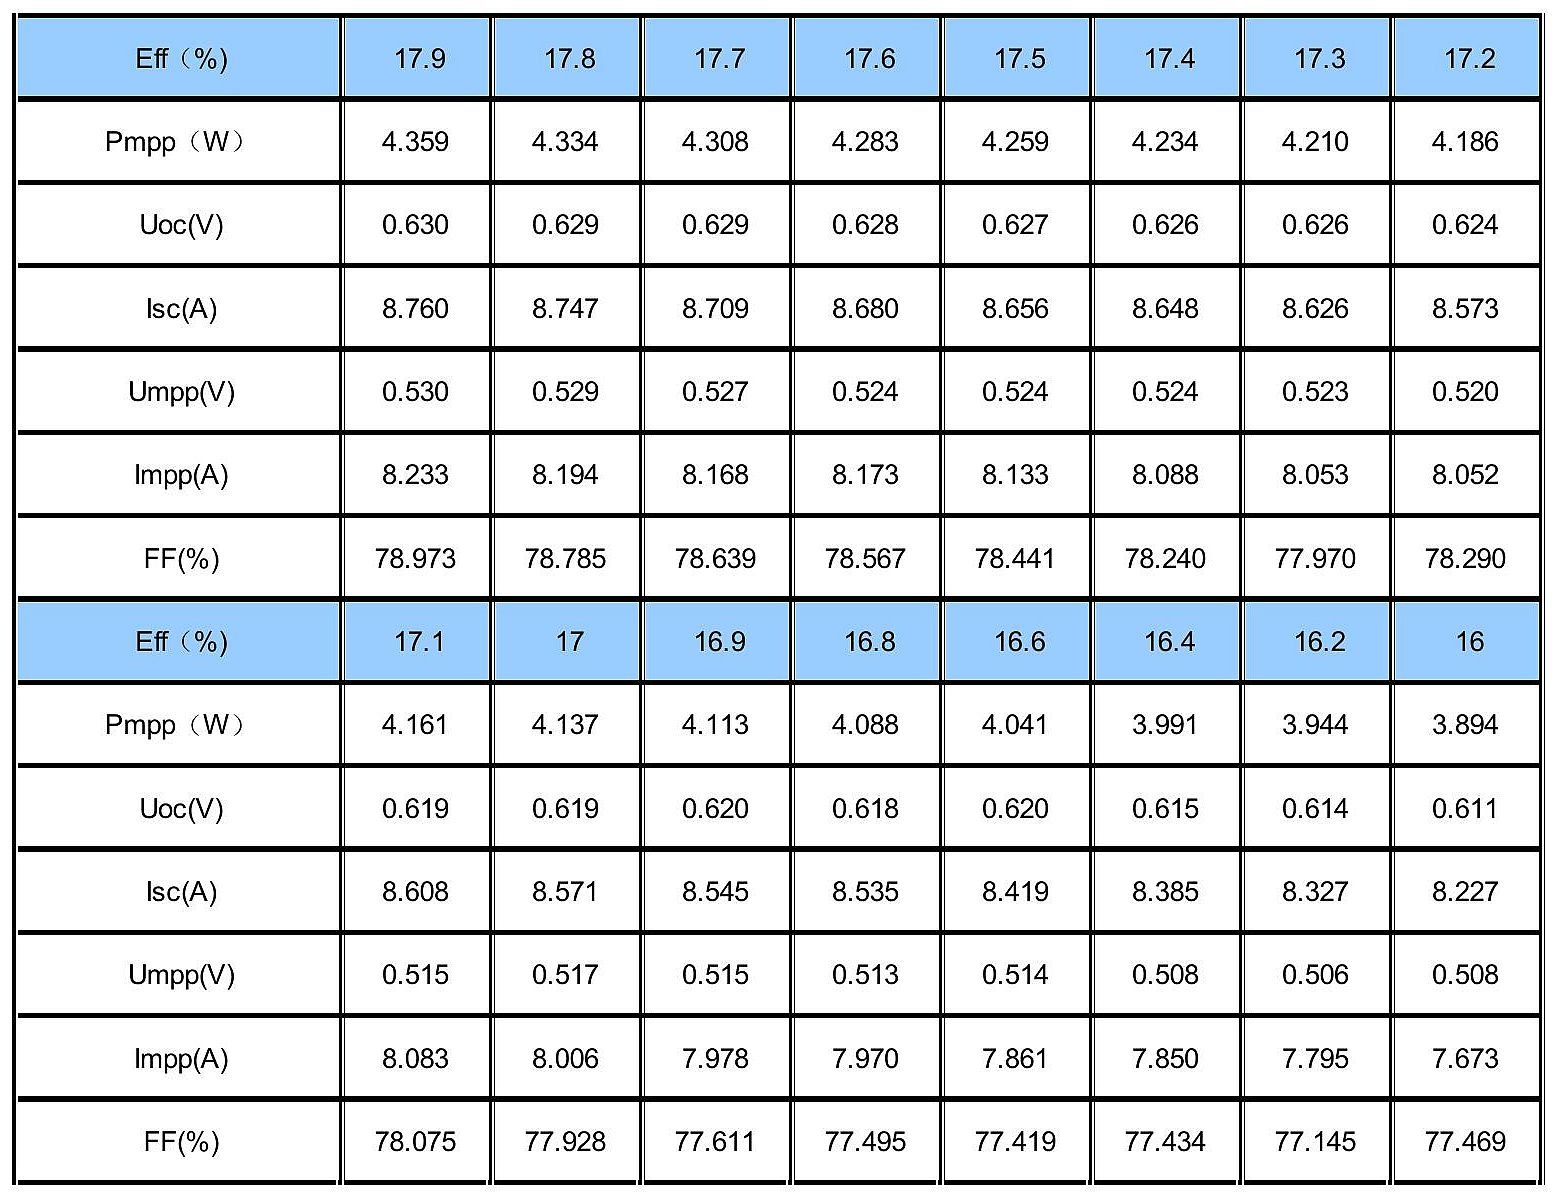table: (1, 1, 1557, 1195)
table column: (25, 10, 332, 1180), (499, 14, 636, 1184), (802, 15, 935, 1182), (949, 16, 1081, 1184), (350, 13, 482, 1187), (1401, 18, 1533, 1192), (1100, 15, 1232, 1189), (652, 15, 780, 1191), (1256, 14, 1379, 1191)
table column header: (21, 606, 1539, 674), (14, 23, 1536, 85)
table row: (13, 520, 1538, 595), (19, 854, 1544, 928), (19, 21, 1537, 95), (20, 186, 1538, 259), (19, 606, 1539, 678), (19, 105, 1539, 176), (14, 274, 1539, 343), (19, 354, 1538, 423), (15, 1106, 1543, 1174), (16, 441, 1537, 508), (14, 1023, 1542, 1090), (18, 940, 1543, 1007), (18, 694, 1544, 759), (20, 773, 1546, 839)
